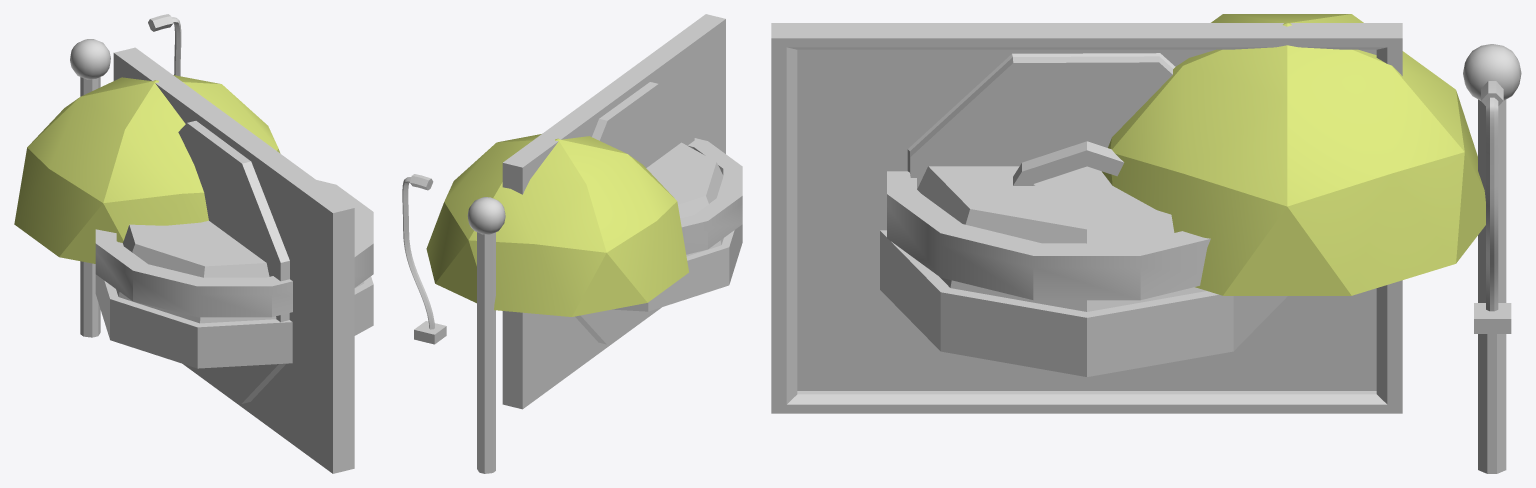
Rendered from Diana.fbx.
3 views of the same model, side by side, from view 1: azimuth 30°, elevation 25°; view 2: azimuth 150°, elevation 25°; view 3: azimuth 270°, elevation 25° (orthographic). The views are drawn at different scales.
Parts seen in each view (by area): view 1: Pantallas, Tapa de boton, Circle, Button base, Escotilla, Button, Palanca, BezierCurve; view 2: Tapa de boton, Pantallas, Escotilla, Palanca, Circle, Button, Button base, BezierCurve, Cube; view 3: Pantallas, Tapa de boton, Escotilla, Button base, Circle, Button, Palanca, BezierCurve, Cube.
Boxes of the visible parts, x1,y1,x2,y2 form: Pantallas: (113,47,354,473); Tapa de boton: (14,75,280,263); Circle: (95,180,373,317); Button base: (95,274,373,368); Escotilla: (178,121,289,403); Button: (116,220,364,323); Palanca: (70,39,110,337); BezierCurve: (148,14,181,76); Tapa de boton: (426,134,688,316); Pantallas: (502,14,725,409); Escotilla: (575,82,694,344); Palanca: (467,197,505,473); Circle: (680,138,742,254); Button: (646,142,723,256); Button base: (612,224,742,311); BezierCurve: (402,174,434,329); Cube: (414,321,446,344); Pantallas: (771,23,1402,413); Tapa de boton: (1102,14,1485,295); Escotilla: (907,53,1183,382); Button base: (880,230,1287,376); Circle: (887,171,1210,300); Button: (917,166,1206,311); Palanca: (1463,44,1521,473); BezierCurve: (1481,81,1503,311); Cube: (1474,303,1511,333).
Size of the model in its own units: 203 by 235 by 362.
